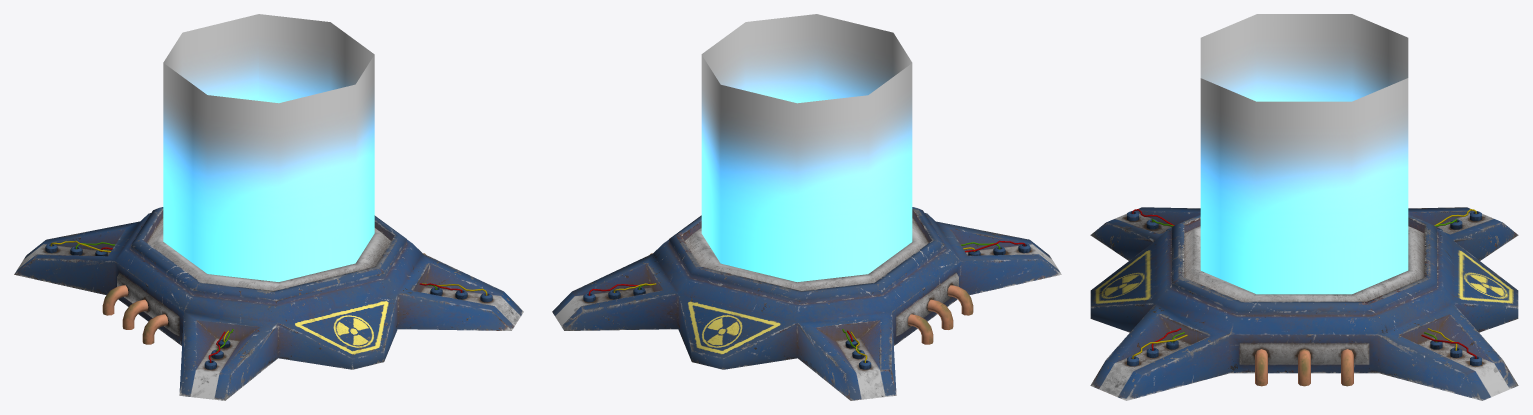
File: sm_teleporter.glb
The picture shows the model from 3 angles, left to right: view 1: azimuth 30°, elevation 25°; view 2: azimuth 150°, elevation 25°; view 3: azimuth 270°, elevation 25°; orthographic projection. The views are drawn at different scales.
Parts seen in each view (by area): view 1: Beam, Teleporter_low, Pipes_low, Bolts_low, Cables_low; view 2: Beam, Teleporter_low, Pipes_low, Bolts_low, Cables_low; view 3: Beam, Teleporter_low, Pipes_low, Bolts_low, Cables_low.
Part boxes in pixels (<box>): Beam: <box>163,14,374,281</box>; Teleporter_low: <box>14,207,523,400</box>; Pipes_low: <box>102,253,425,344</box>; Bolts_low: <box>45,243,492,369</box>; Cables_low: <box>50,240,487,362</box>; Beam: <box>701,14,912,282</box>; Teleporter_low: <box>552,207,1061,400</box>; Pipes_low: <box>650,253,973,344</box>; Bolts_low: <box>583,243,1030,369</box>; Cables_low: <box>588,240,1025,362</box>; Beam: <box>1200,14,1408,294</box>; Teleporter_low: <box>1090,207,1518,400</box>; Pipes_low: <box>1255,349,1353,386</box>; Bolts_low: <box>1127,211,1481,366</box>; Cables_low: <box>1132,209,1476,358</box>.
Size of the model in its own units: 19.96 by 13 by 19.96.
Materials: 2 (2 with a texture image).
